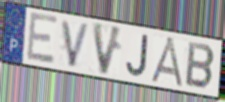A: (148, 36, 187, 90)
B: (183, 40, 217, 91)
E: (25, 10, 59, 66)
J: (125, 33, 150, 78)
V: (91, 20, 125, 78), (60, 18, 92, 70)
